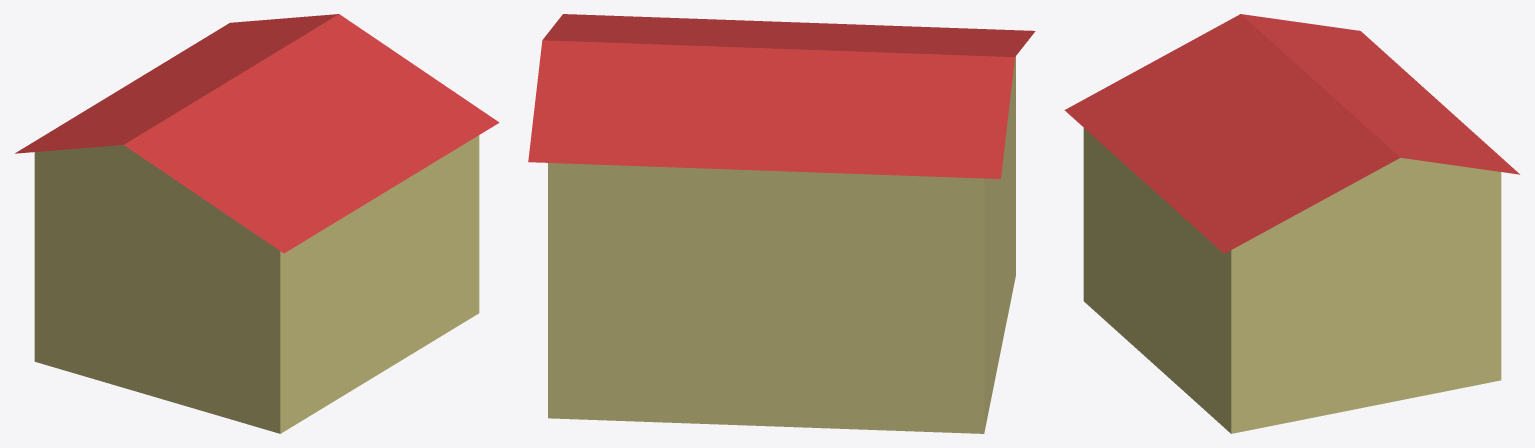
The picture shows the model from 3 angles, left to right: view 1: azimuth 30°, elevation 25°; view 2: azimuth 150°, elevation 25°; view 3: azimuth 270°, elevation 25°; orthographic projection. The views are drawn at different scales.
Size of the model in its own units: 16.5 by 15.7 by 9.47.
